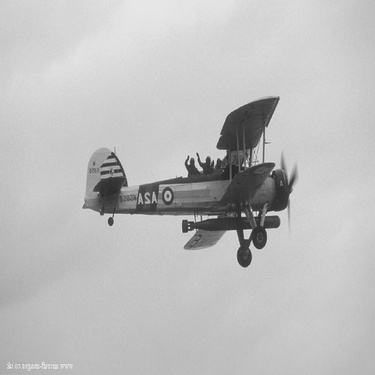airplane: (46, 87, 311, 275)
